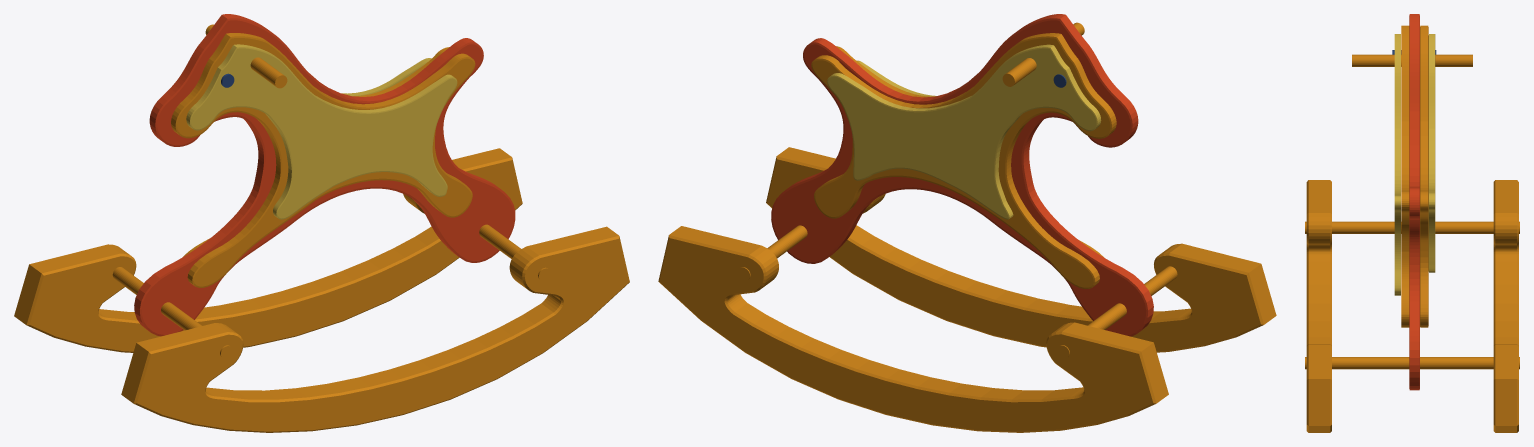
The model's file is caballito.obj.
The picture shows the model from 3 angles, left to right: view 1: azimuth 30°, elevation 25°; view 2: azimuth 150°, elevation 25°; view 3: azimuth 270°, elevation 25°; orthographic projection. The views are drawn at different scales.
Parts seen in each view (by area): view 1: BezierCurve, BezierCurve.001, BezierCurve.002, BezierCurve.003_BezierCurve.004, BezierCurve.004_BezierCurve.003, Cylinder, Cylinder.001_Cylinder.002, Cylinder.002_Cylinder.003; view 2: BezierCurve.001, BezierCurve, BezierCurve.002, BezierCurve.006, BezierCurve.005, Cylinder, Cylinder.001_Cylinder.002, Cylinder.002_Cylinder.003; view 3: BezierCurve.001, BezierCurve, BezierCurve.002, BezierCurve.005, BezierCurve.004_BezierCurve.003, Cylinder.001_Cylinder.002, BezierCurve.006, BezierCurve.003_BezierCurve.004, Cylinder, Cylinder.002_Cylinder.003.
Part boxes in pixels (x1,y1,x2,y2): BezierCurve: (121, 226, 629, 432); BezierCurve.001: (14, 148, 522, 352); BezierCurve.002: (134, 14, 515, 336); BezierCurve.003_BezierCurve.004: (186, 44, 457, 219); BezierCurve.004_BezierCurve.003: (171, 33, 475, 287); Cylinder: (112, 267, 232, 358); Cylinder.001_Cylinder.002: (479, 224, 551, 281); Cylinder.002_Cylinder.003: (205, 24, 287, 88); BezierCurve.001: (658, 226, 1168, 432); BezierCurve: (766, 147, 1276, 352); BezierCurve.002: (771, 14, 1153, 336); BezierCurve.006: (827, 44, 1101, 219); BezierCurve.005: (811, 33, 1116, 288); Cylinder: (1057, 266, 1177, 358); Cylinder.001_Cylinder.002: (737, 225, 807, 280); Cylinder.002_Cylinder.003: (1002, 22, 1084, 86); BezierCurve.001: (1493, 180, 1518, 432); BezierCurve: (1306, 180, 1331, 432); BezierCurve.002: (1409, 14, 1419, 390); BezierCurve.005: (1420, 25, 1428, 327); BezierCurve.004_BezierCurve.003: (1401, 25, 1409, 327); Cylinder.001_Cylinder.002: (1305, 357, 1519, 369); BezierCurve.006: (1428, 34, 1435, 272); BezierCurve.003_BezierCurve.004: (1394, 34, 1400, 295); Cylinder: (1305, 221, 1519, 233); Cylinder.002_Cylinder.003: (1352, 54, 1472, 66).
Size of the model in its own units: 67.65 by 49.81 by 29.09.
